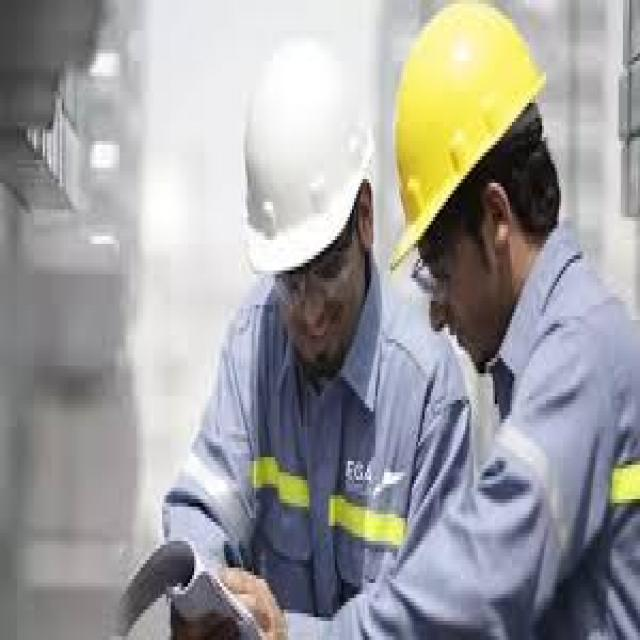reflective_jacket: (225, 316, 450, 628)
safety_helmet: (386, 3, 552, 270), (232, 30, 369, 278)
